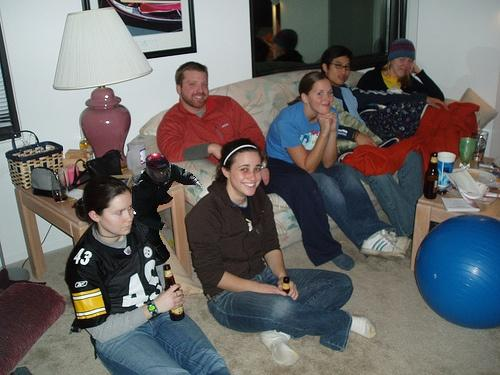tampered: (132, 153, 203, 259)
